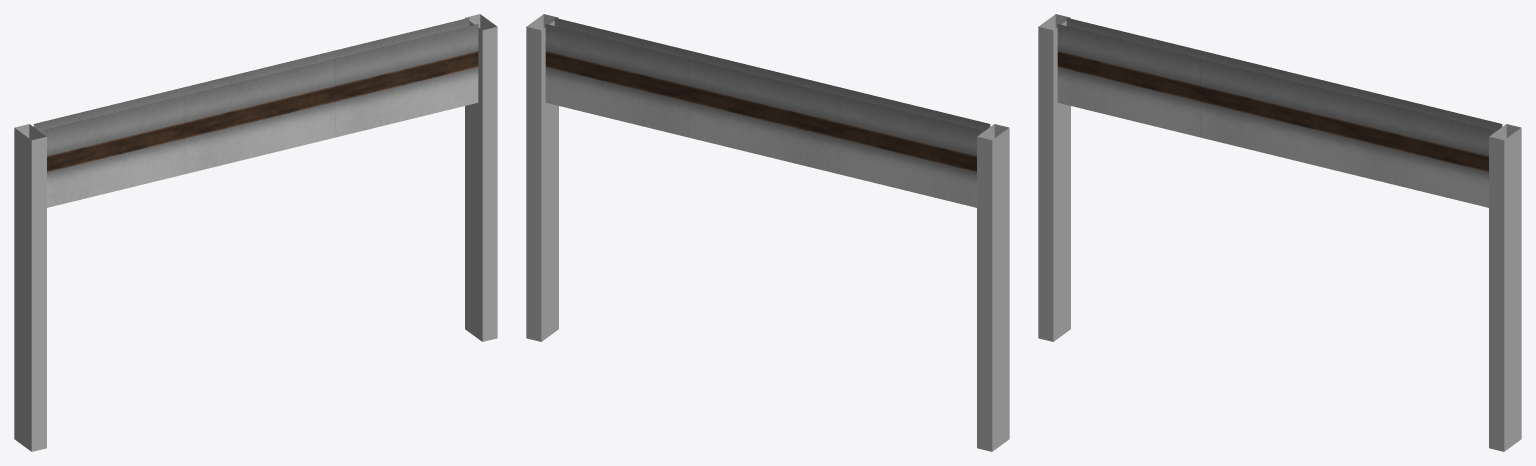
Rendered from house_enterance_6x4.fbx.
3 views of the same model, side by side, from view 1: azimuth 30°, elevation 25°; view 2: azimuth 150°, elevation 25°; view 3: azimuth 330°, elevation 25° (orthographic).
Parts seen in each view (by area): view 1: house_enterance_6; view 2: house_enterance_6; view 3: house_enterance_6.
Part boxes in pixels (box(x1,y1,x2,y2)): house_enterance_6: box(14, 14, 497, 451); house_enterance_6: box(526, 14, 1009, 451); house_enterance_6: box(1038, 14, 1521, 451).
Size of the model in its own units: 619 by 400 by 40.
